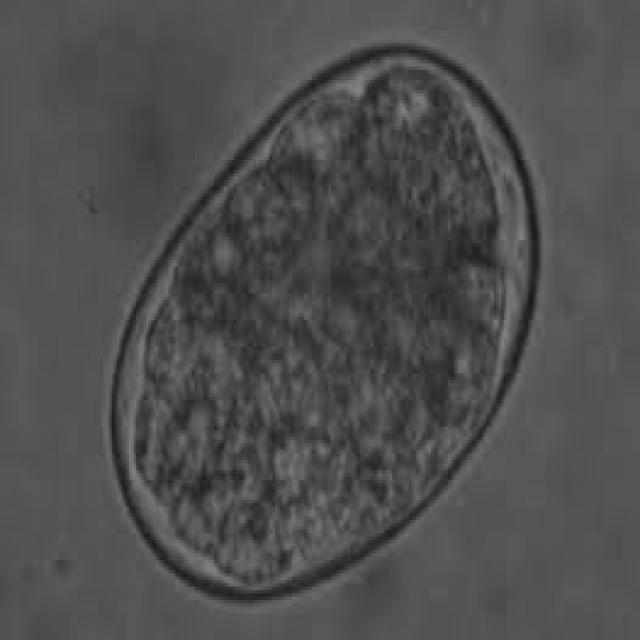Ancylostoma Spp: (94, 25, 546, 612)
